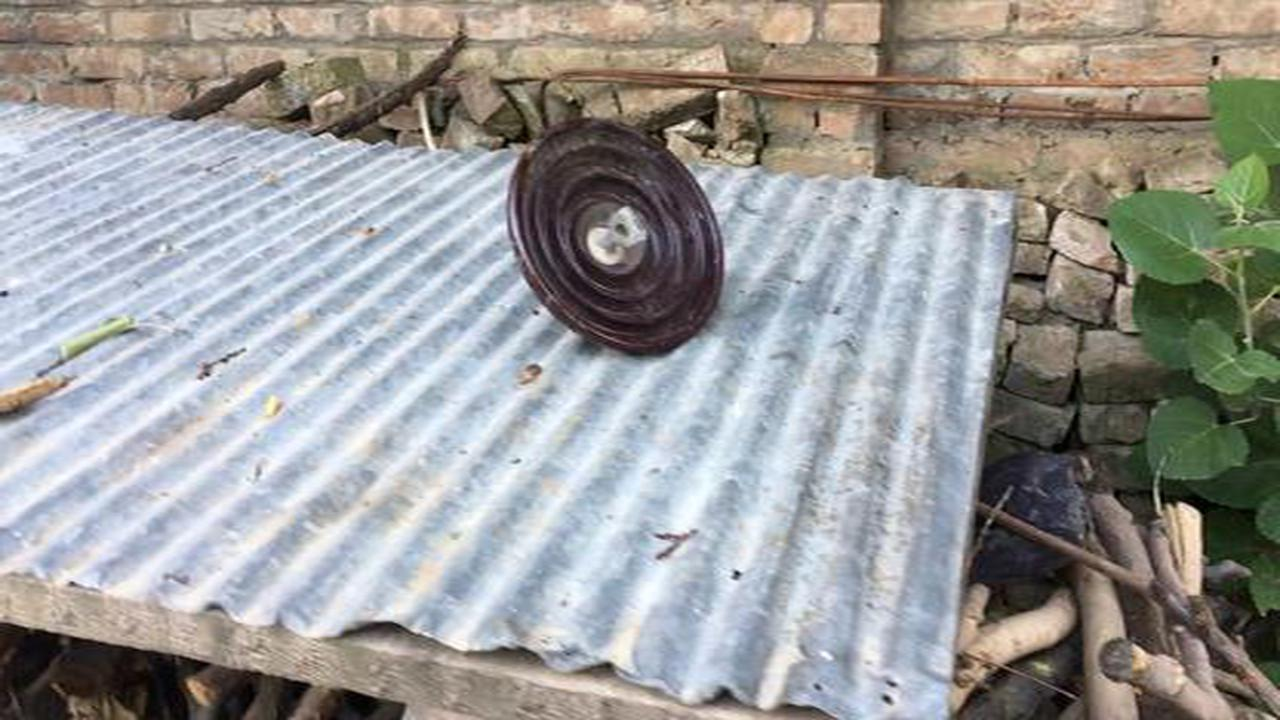insulator_disc: (500, 115, 733, 358)
